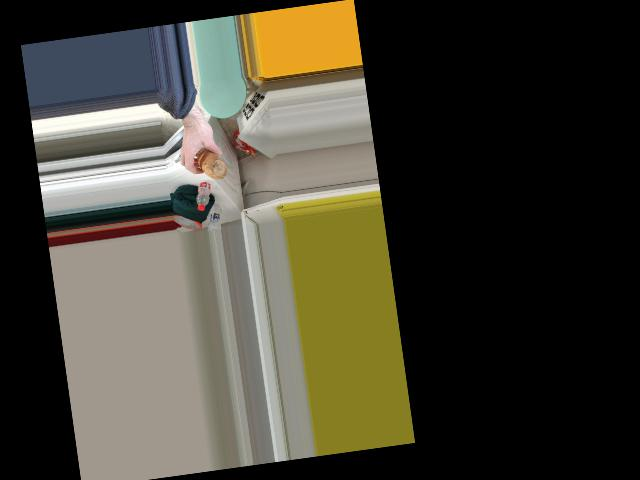sweet_potato: (196, 145, 227, 182)
